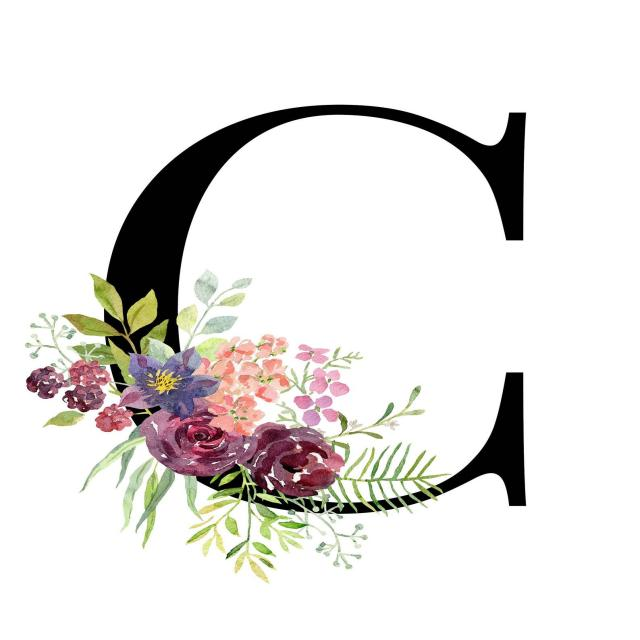C: (58, 49, 598, 556)
